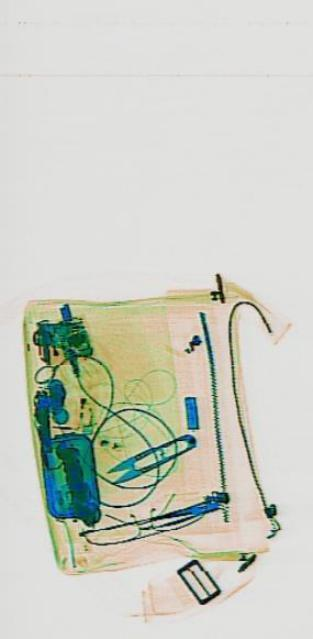Scissors: (103, 426, 194, 489)
